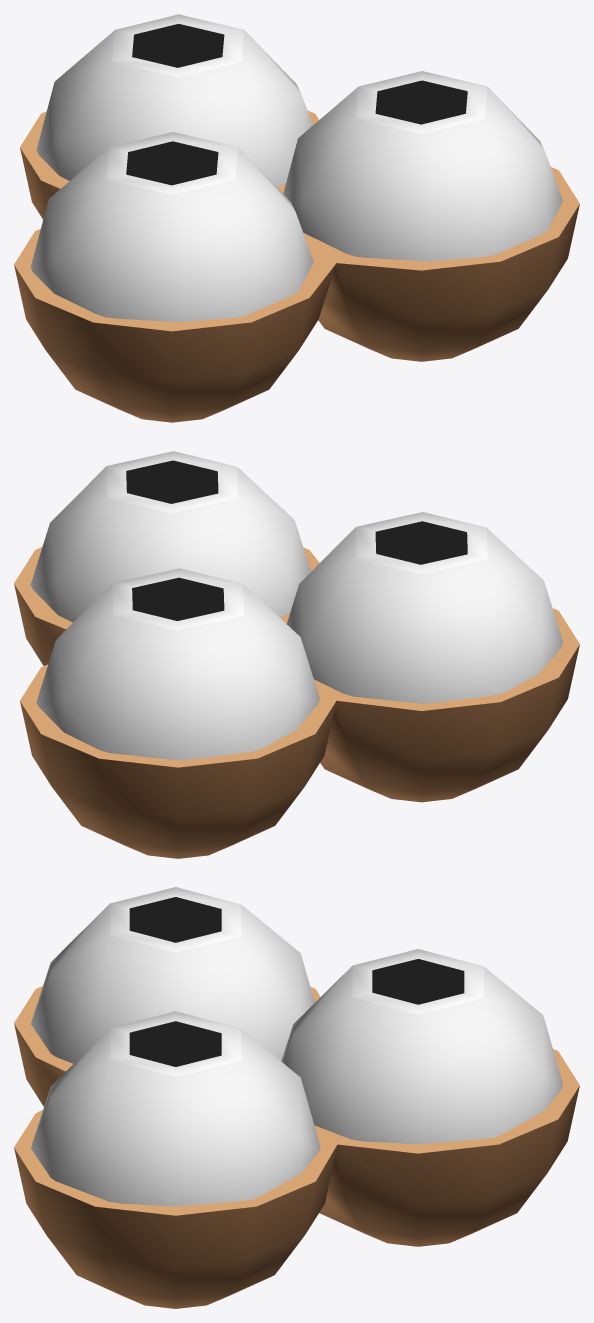
File: Moleocule.fbx
3 renders of one model, top to bottom at view 1: azimuth 30°, elevation 25°; view 2: azimuth 150°, elevation 25°; view 3: azimuth 270°, elevation 25°, orthographic. The views are drawn at different scales.
Parts seen in each view (by area): view 1: Moleocule - Haskipend; view 2: Moleocule - Haskipend; view 3: Moleocule - Haskipend.
Part boxes in pixels (left/top/right/bottom): Moleocule - Haskipend: left=14, top=14, right=579, bottom=422; Moleocule - Haskipend: left=14, top=451, right=579, bottom=858; Moleocule - Haskipend: left=14, top=887, right=579, bottom=1308.
Bounding box in the file's own units: 62.21 × 28.21 × 57.02.
